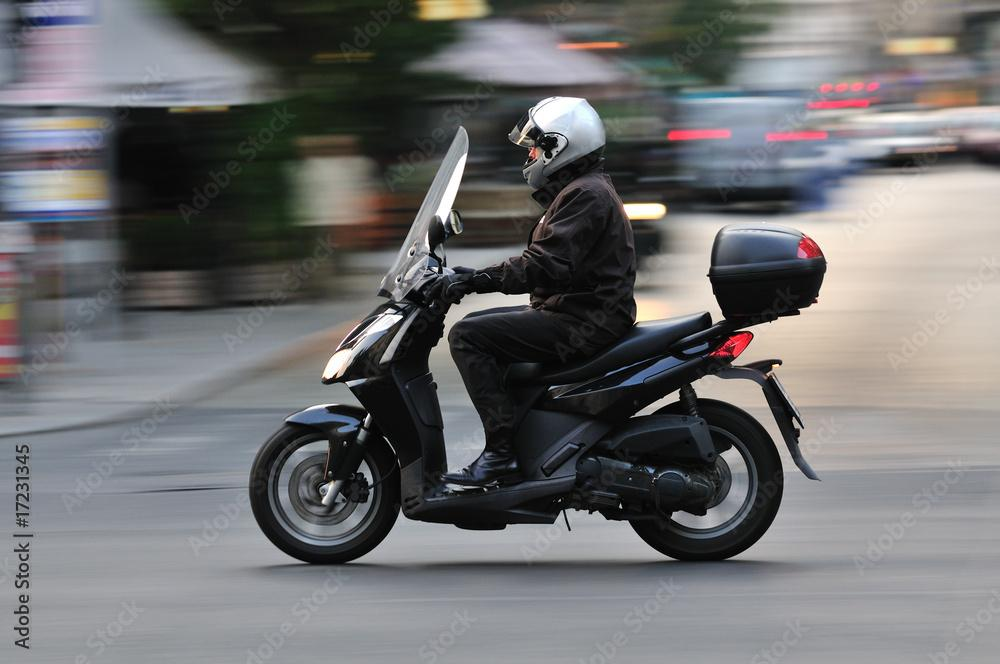helmet: (507, 95, 607, 195)
